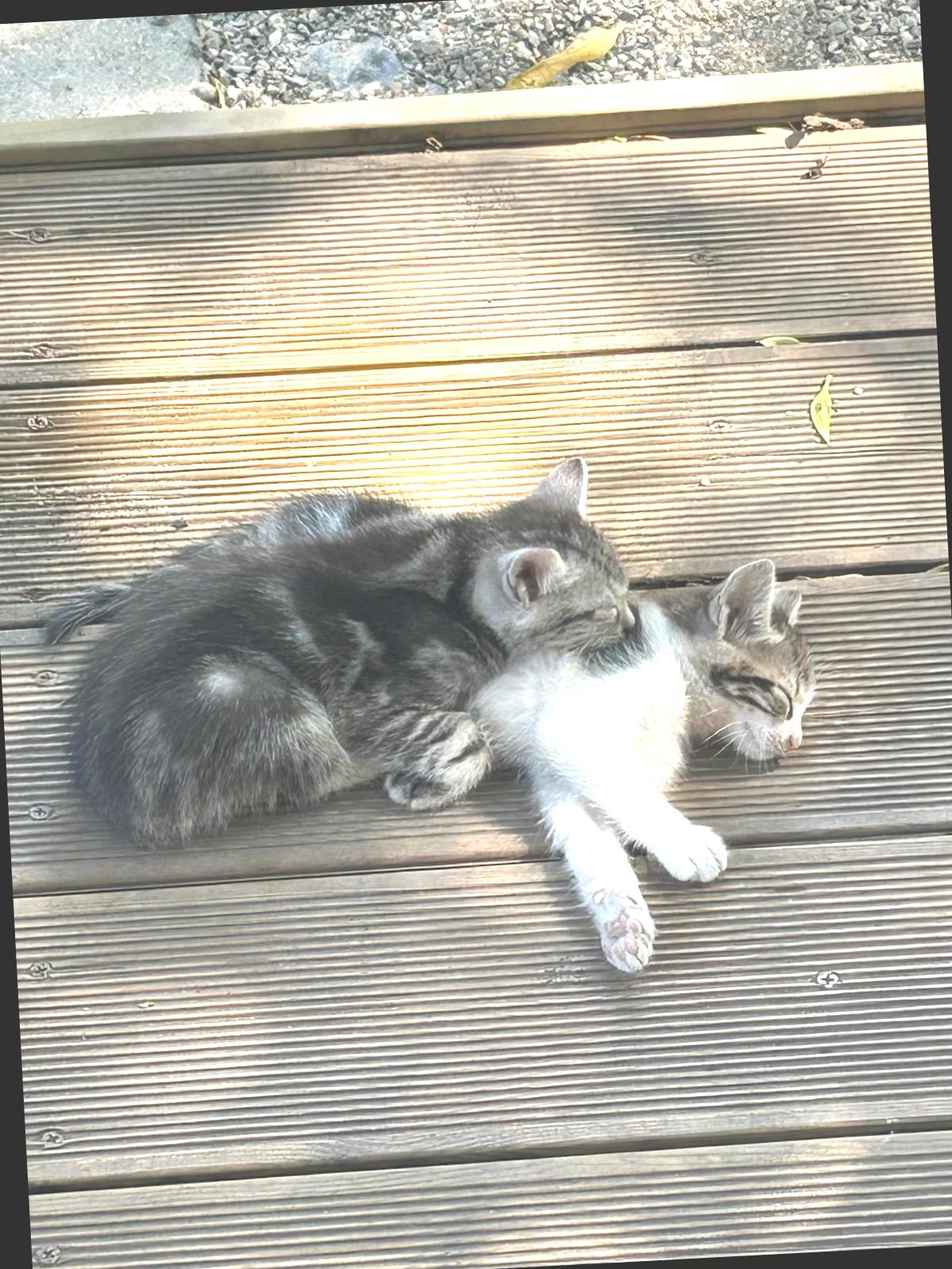macka: (33, 452, 649, 857), (468, 552, 833, 983)
